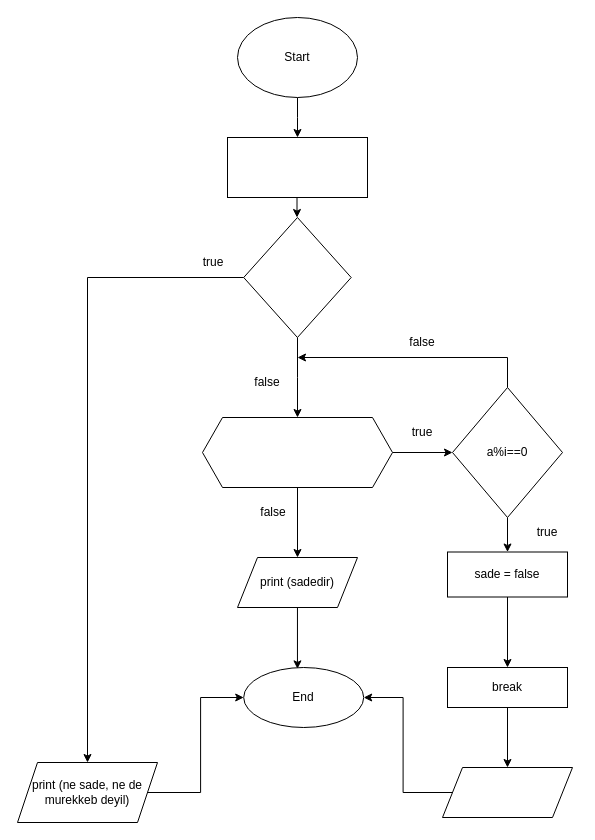
Some shapes in this 595 by 840 pixel diagram are drawn without their labels. Each missing label, with the box of its shape:
a ==0 || a== 1: (243, 216, 351, 338)
a= 85, sade = true;: (226, 136, 368, 198)
let i=2; i<2; i++: (202, 416, 392, 488)
print (murekkebdir): (442, 766, 572, 818)
